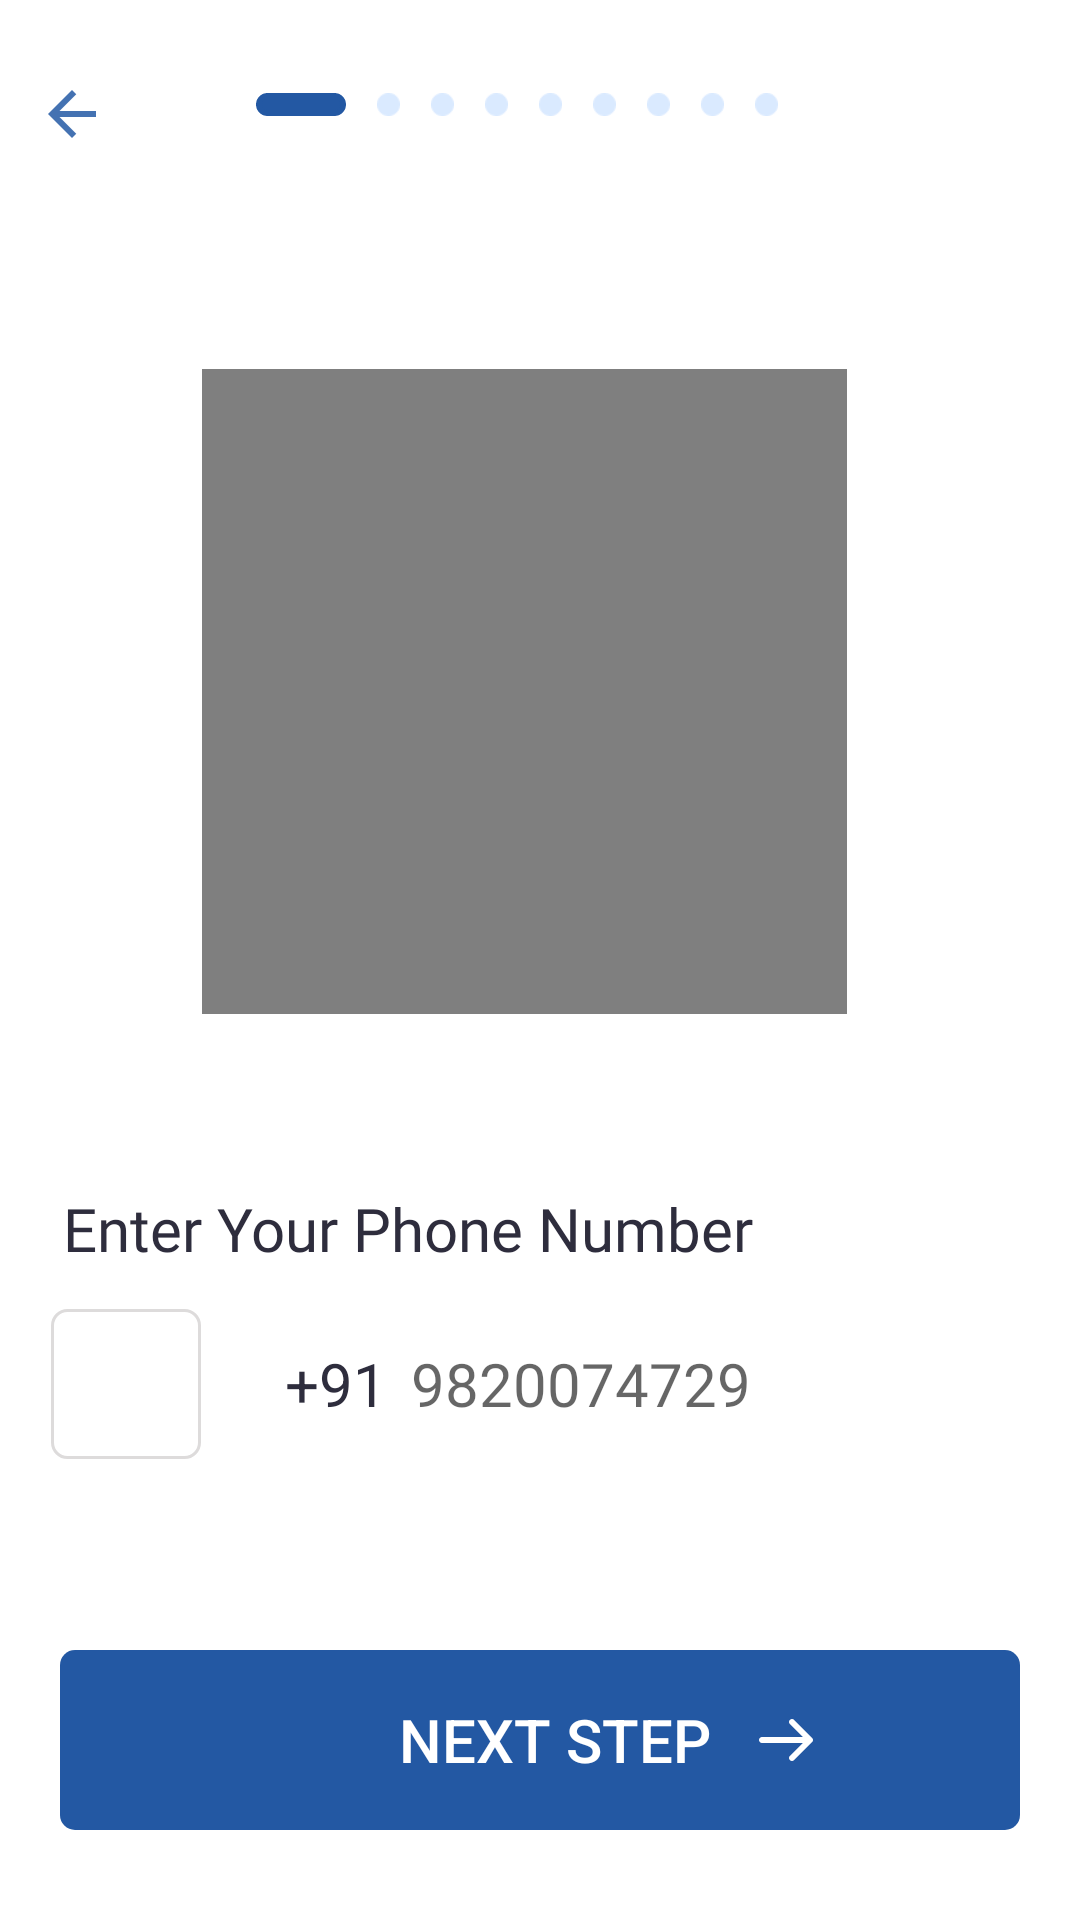

Named icons in this screenshot (1080×1920) and their bounding boxes, (x1, y1, x2, y2):
feather arrow right: (759, 1719, 813, 1761)
